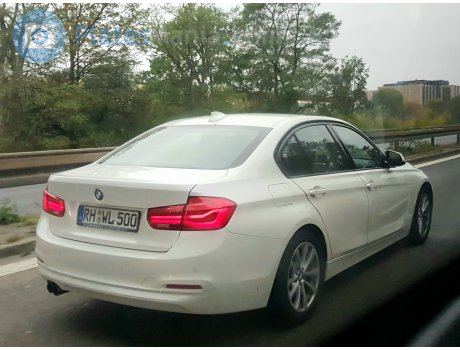License Plates: (83, 205, 136, 229)
